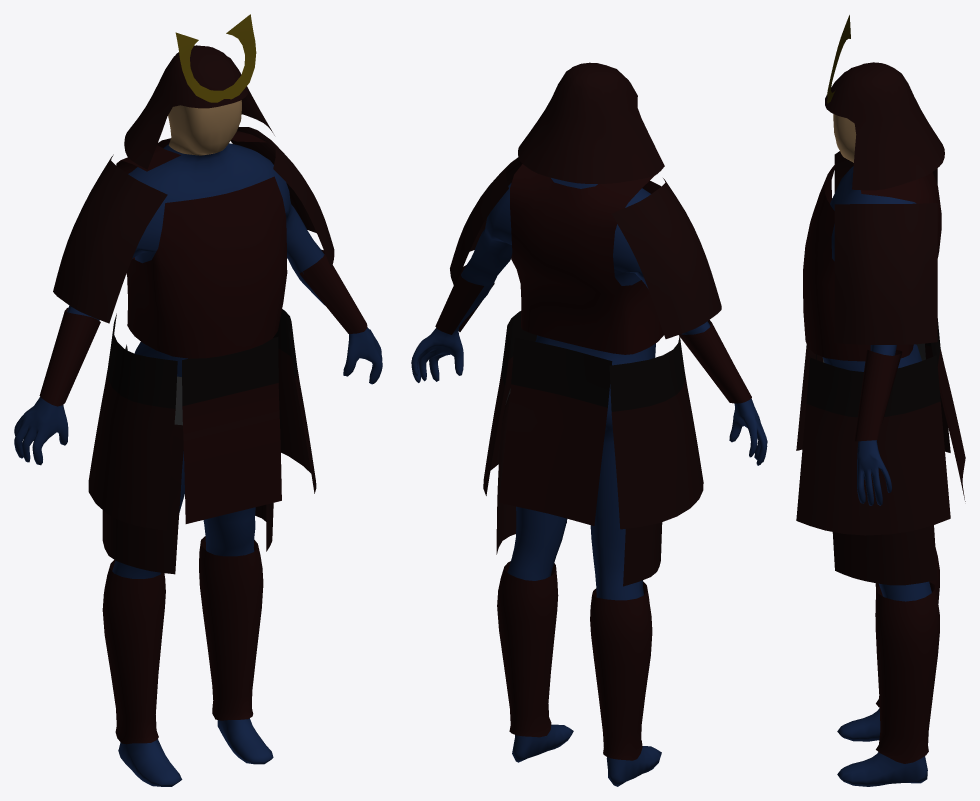
File: samurai.dae
3 renders of one model, left to right at view 1: azimuth 30°, elevation 25°; view 2: azimuth 150°, elevation 25°; view 3: azimuth 270°, elevation 25°, orthographic. The views are drawn at different scales.
Parts seen in each view (by area): view 1: pCube3; view 2: pCube3; view 3: pCube3.
Part boxes in pixels (bbox=[...]): pCube3: bbox=[14, 14, 382, 786]; pCube3: bbox=[411, 62, 767, 786]; pCube3: bbox=[796, 15, 965, 786].
Bounding box in the file's own units: 3.91 × 7.68 × 1.62.
